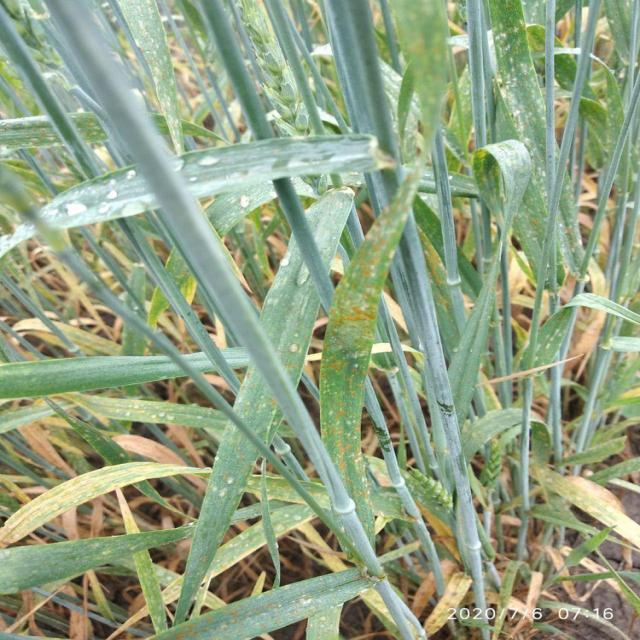wheat-powdery-mildew: (181, 204, 350, 597), (181, 136, 376, 202), (28, 169, 155, 247), (198, 188, 272, 241)
